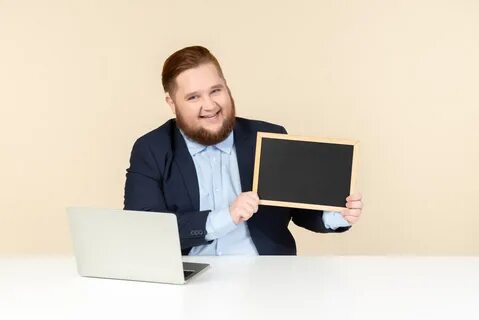awake: (123, 45, 299, 256)
